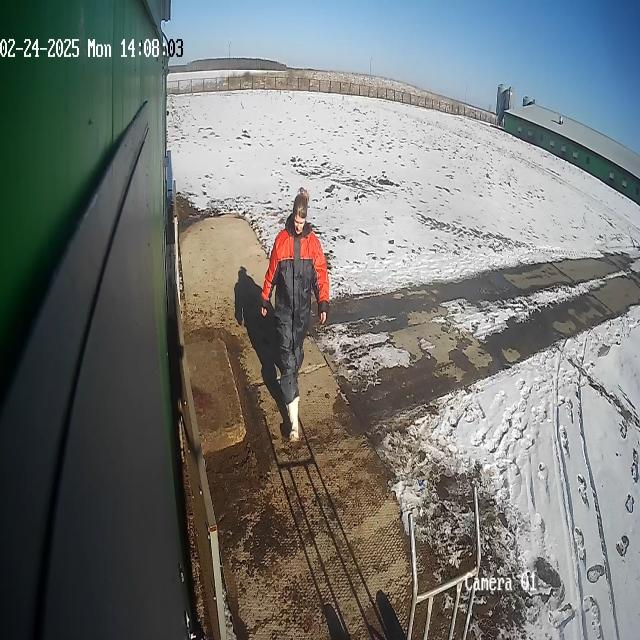Red uniform: (262, 224, 330, 410)
